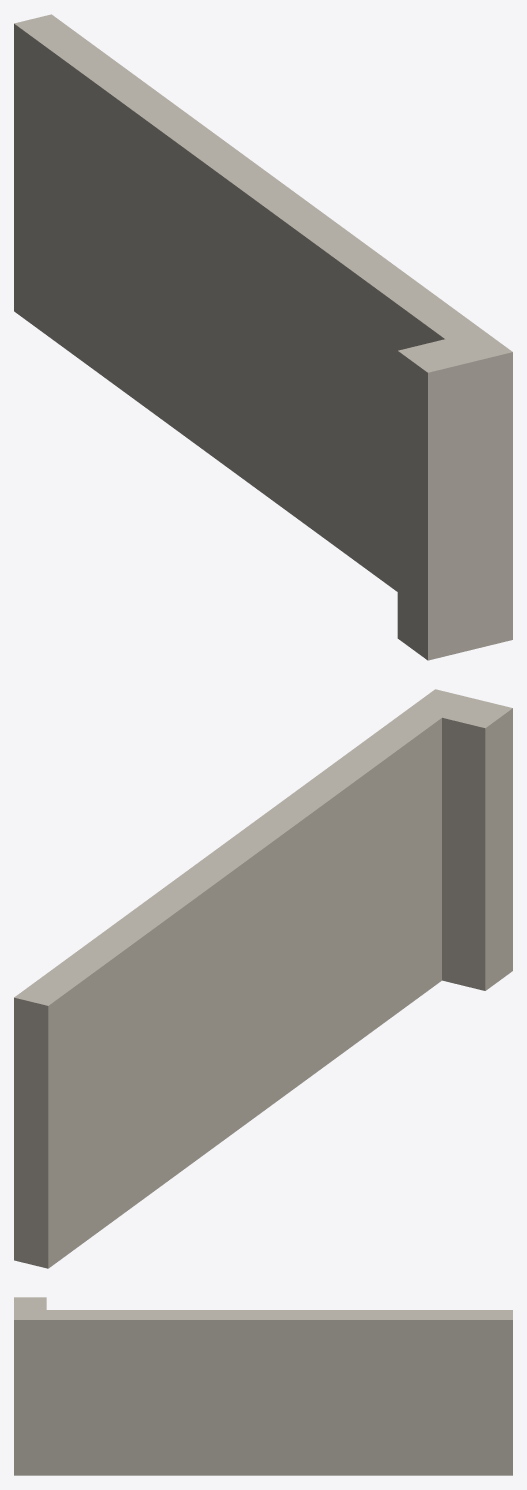
Rendered from BackWall.obj.
The picture shows the model from 3 angles, top to bottom: view 1: azimuth 30°, elevation 25°; view 2: azimuth 150°, elevation 25°; view 3: azimuth 270°, elevation 25°; orthographic projection. The views are drawn at different scales.
Parts seen in each view (by area): view 1: BackWall; view 2: BackWall; view 3: BackWall.
Boxes of the visible parts, x1,y1,x2,y2 form: BackWall: (14, 14, 512, 660); BackWall: (14, 689, 512, 1268); BackWall: (14, 1297, 512, 1475).
Bounding box in the file's own units: 2.26 × 7.31 × 21.25.
